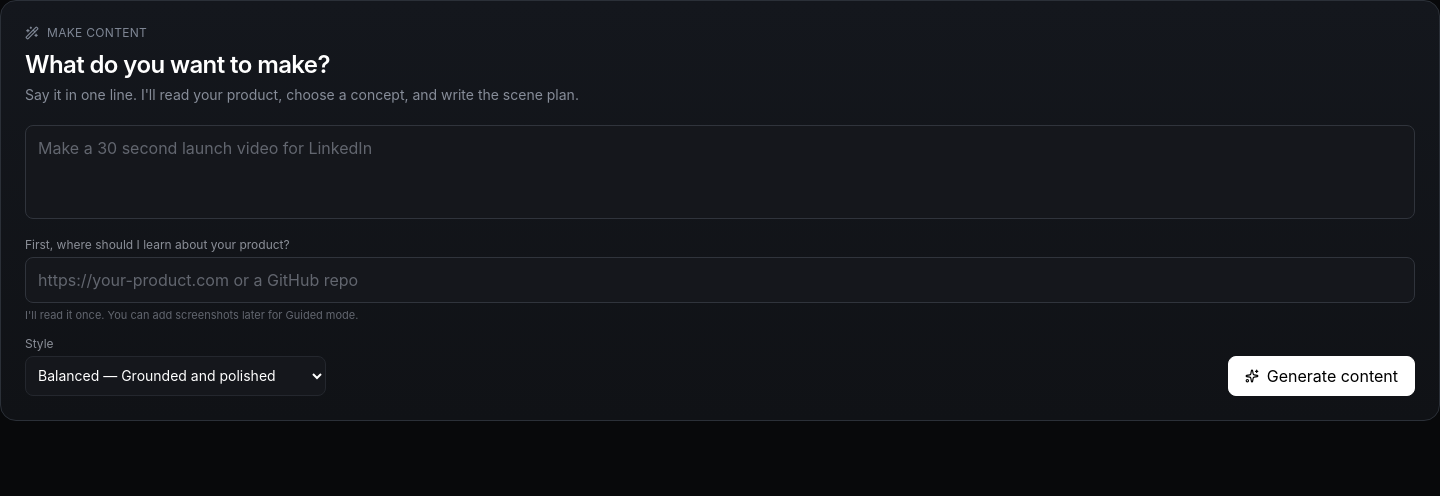
Test: CreateContentPanel › asks for a product link before it will generate
Type "Launch video" into the text box with placeholder "Make a 30 second launch video for LinkedIn" at (720, 172), box 25,125 -> 1415,219
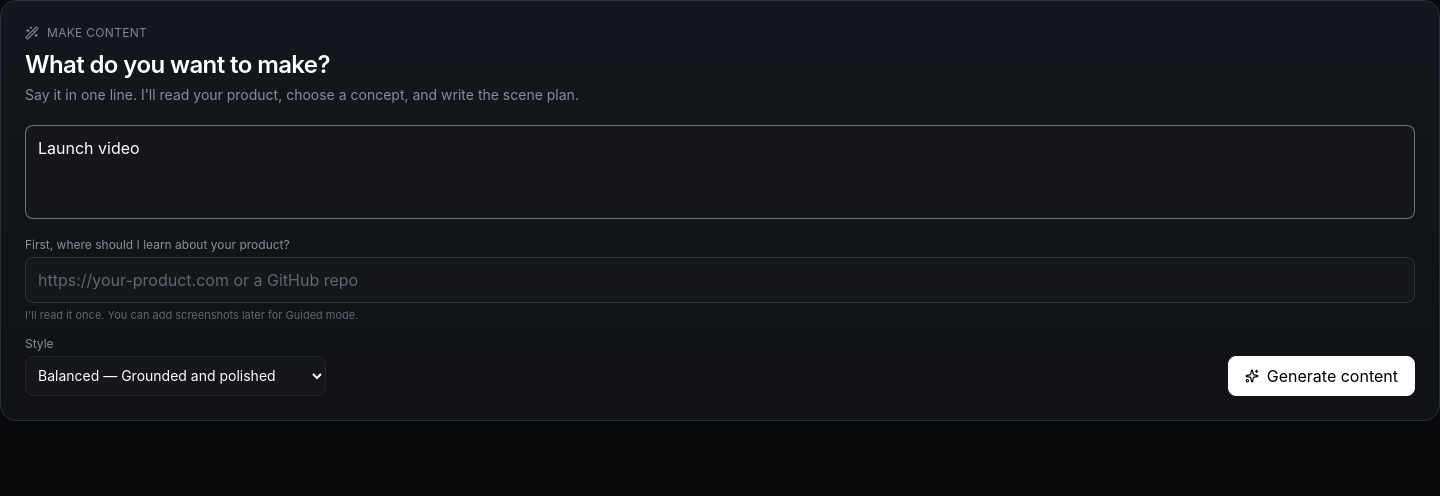
Click the button "Generate content" at (1321, 376), box 1228,356 -> 1415,396
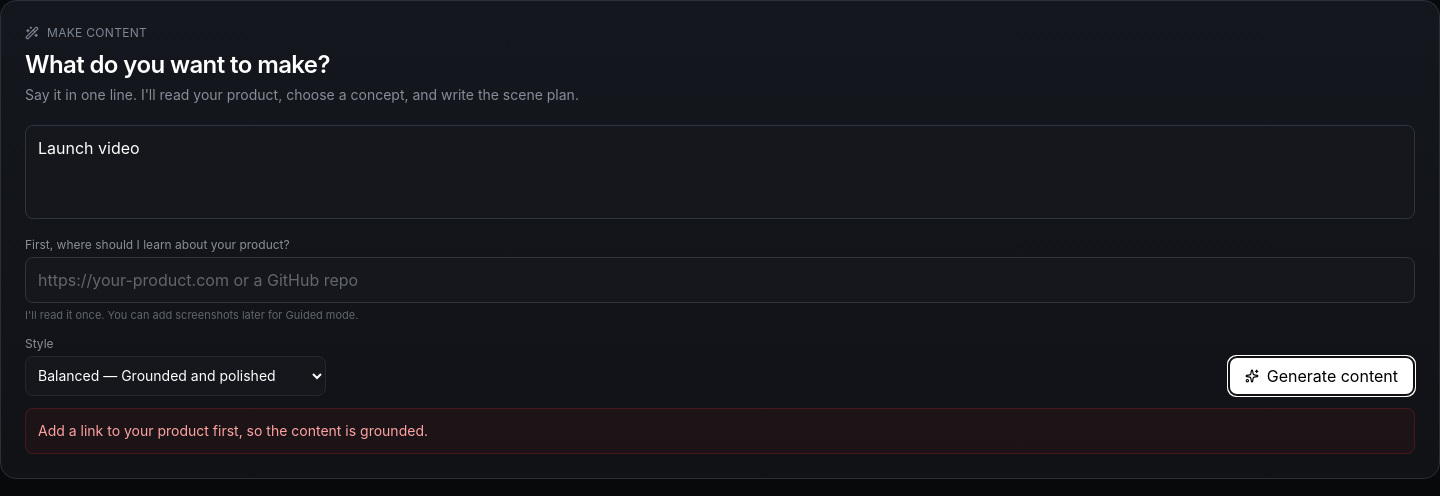
Result: the text "Add a link to your product first" is shown at 38,422 -> 428,438
